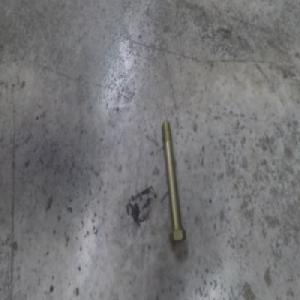Bolt: (163, 114, 189, 240)
